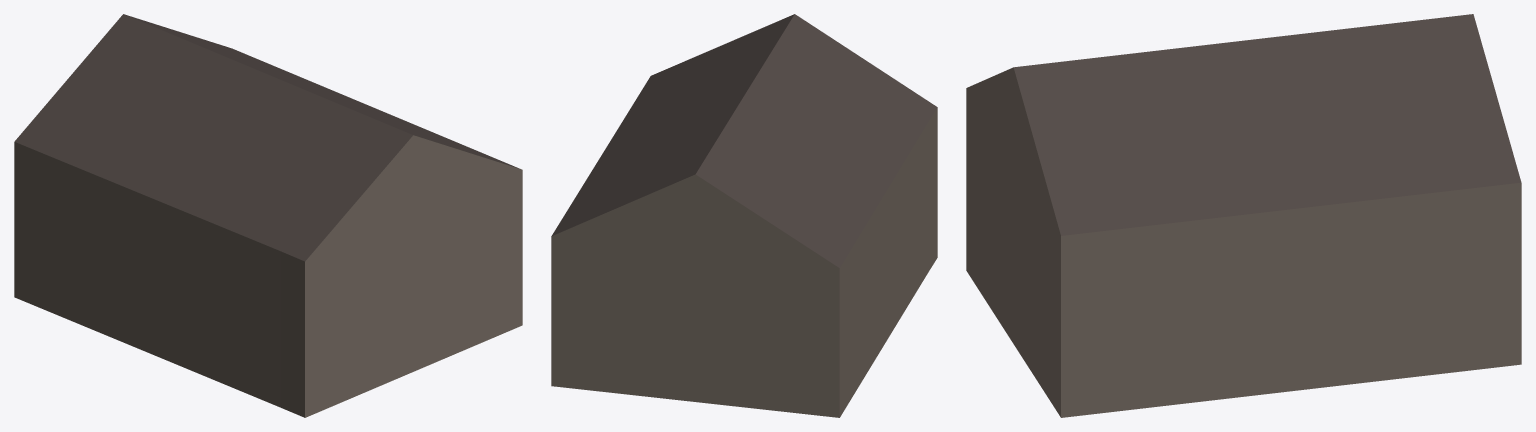
3 renders of one model, left to right at view 1: azimuth 30°, elevation 25°; view 2: azimuth 150°, elevation 25°; view 3: azimuth 270°, elevation 25°, orthographic. The views are drawn at different scales.
Visible parts, largest first — view 1: HP-w1198843255; view 2: HP-w1198843255; view 3: HP-w1198843255.
Boxes of the visible parts, x1,y1,x2,y2 form: HP-w1198843255: (14, 14, 522, 417); HP-w1198843255: (551, 14, 937, 417); HP-w1198843255: (966, 14, 1521, 417).
Size of the model in its own units: 14.22 by 9.13 by 16.59.
